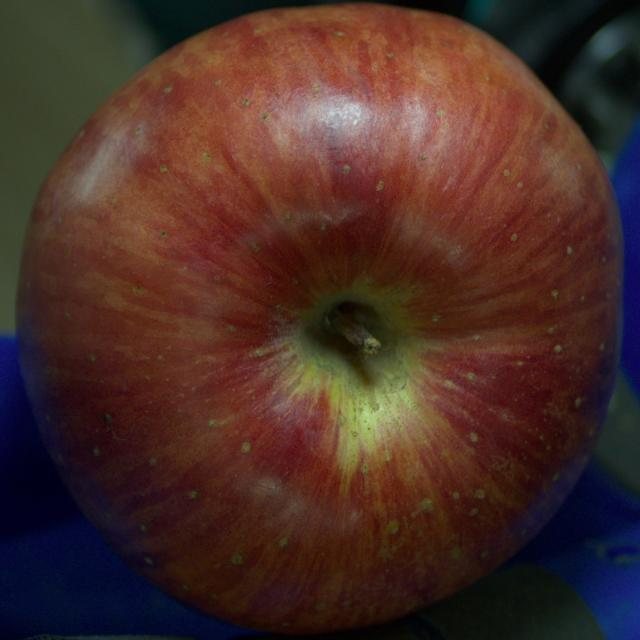apple: (16, 4, 622, 634)
